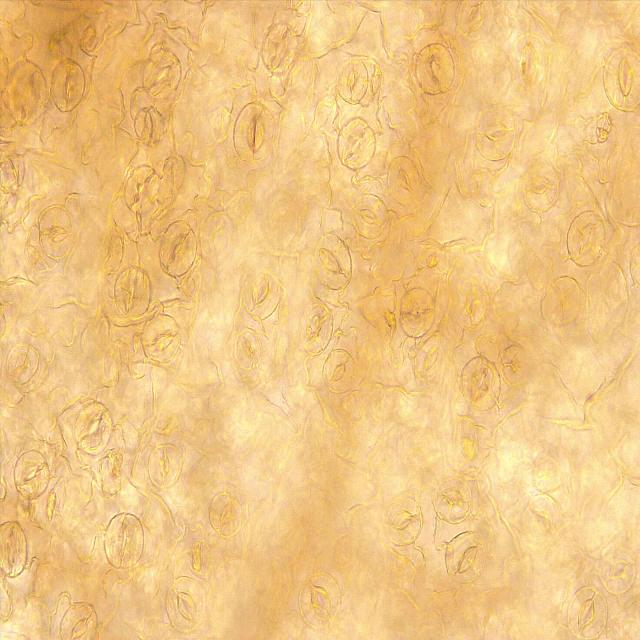Stomata: (232, 100, 276, 163), (602, 45, 640, 114), (508, 31, 550, 92), (298, 571, 341, 630), (103, 512, 146, 570), (311, 232, 353, 291), (166, 575, 207, 634), (475, 105, 518, 161), (158, 218, 198, 278), (566, 209, 606, 268), (460, 356, 502, 412), (444, 529, 486, 583), (72, 401, 113, 456), (336, 116, 377, 171), (380, 496, 424, 547), (415, 42, 456, 96), (242, 265, 281, 321), (521, 160, 561, 214), (568, 586, 608, 640), (141, 48, 182, 100), (141, 312, 181, 365), (49, 57, 86, 114), (113, 266, 152, 320), (432, 474, 472, 526), (37, 204, 74, 260), (597, 548, 638, 597), (13, 449, 51, 500), (350, 192, 390, 240), (300, 303, 334, 355), (386, 155, 422, 204), (208, 492, 245, 538), (146, 443, 183, 489), (0, 520, 28, 579), (322, 348, 357, 394), (58, 600, 98, 640), (455, 0, 495, 39), (336, 58, 369, 105), (235, 329, 263, 371)
